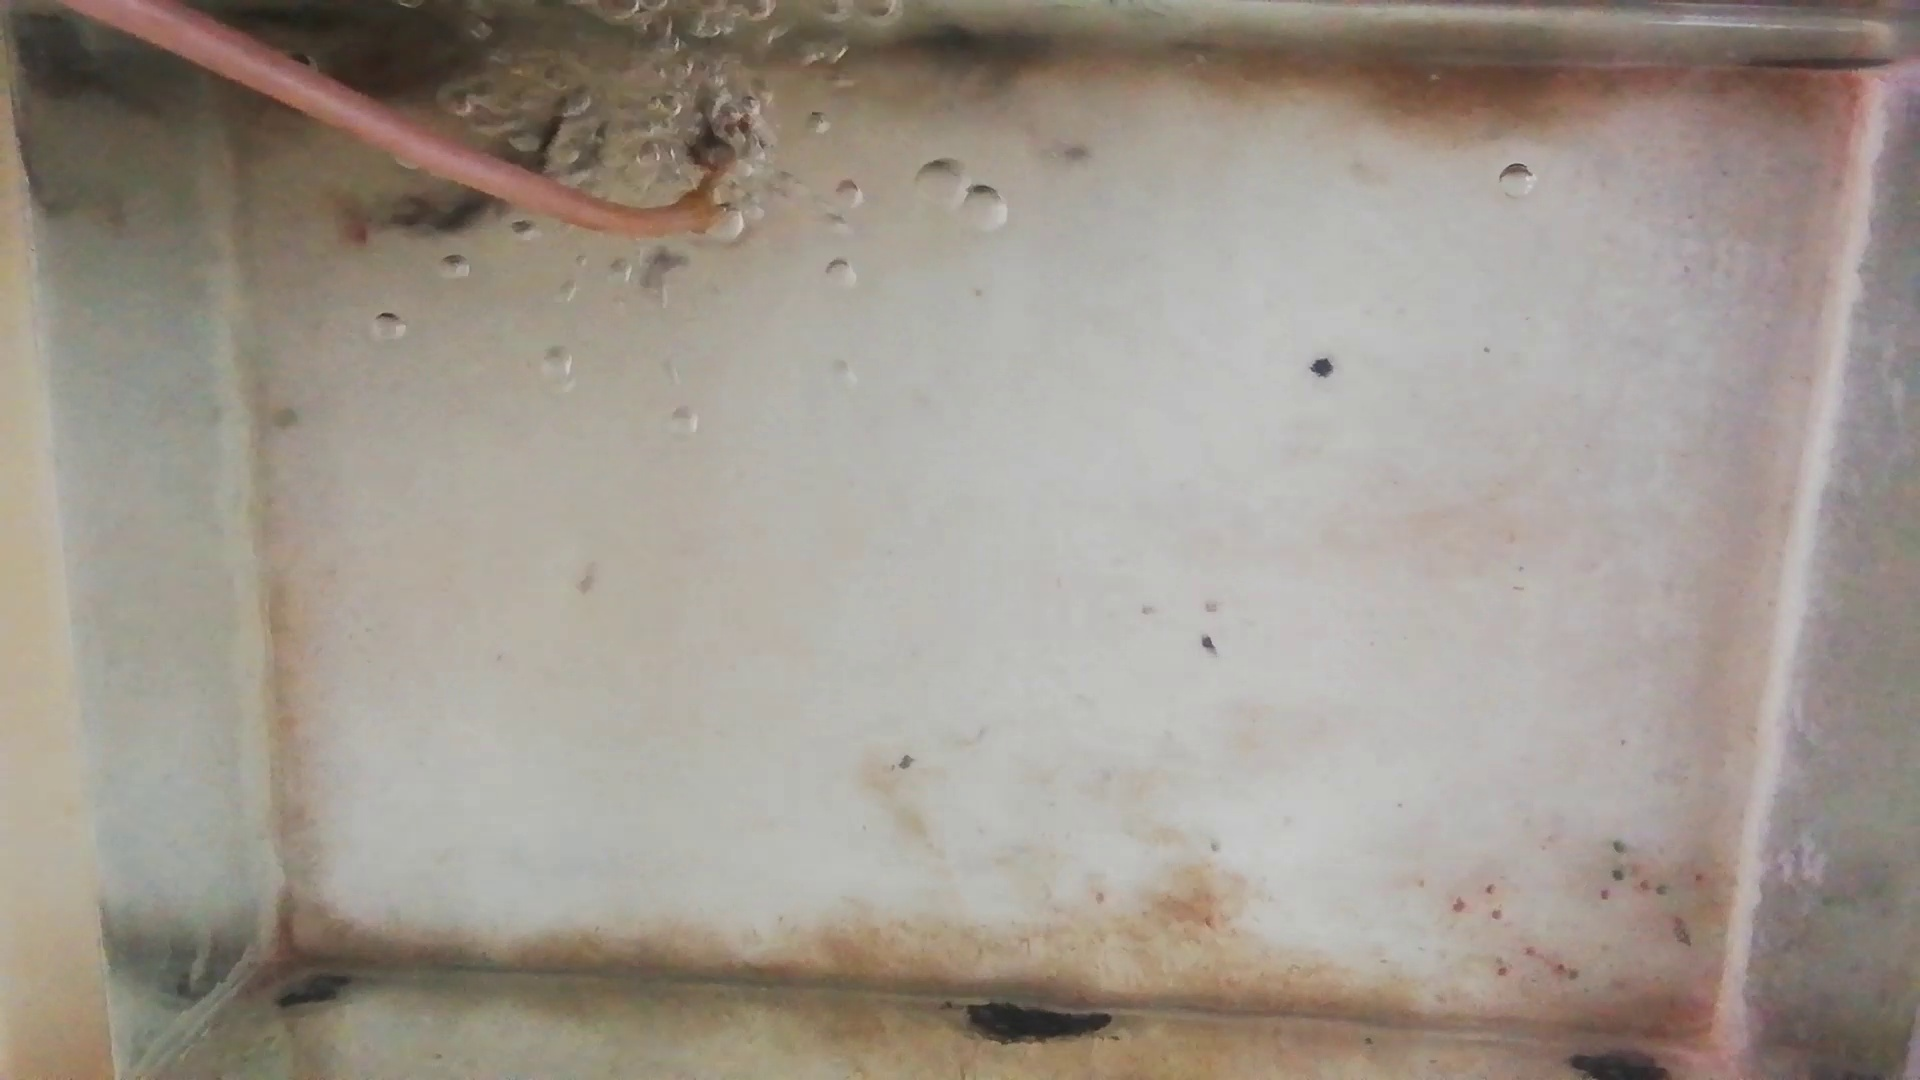fish: (377, 124, 597, 236), (327, 45, 473, 94)
